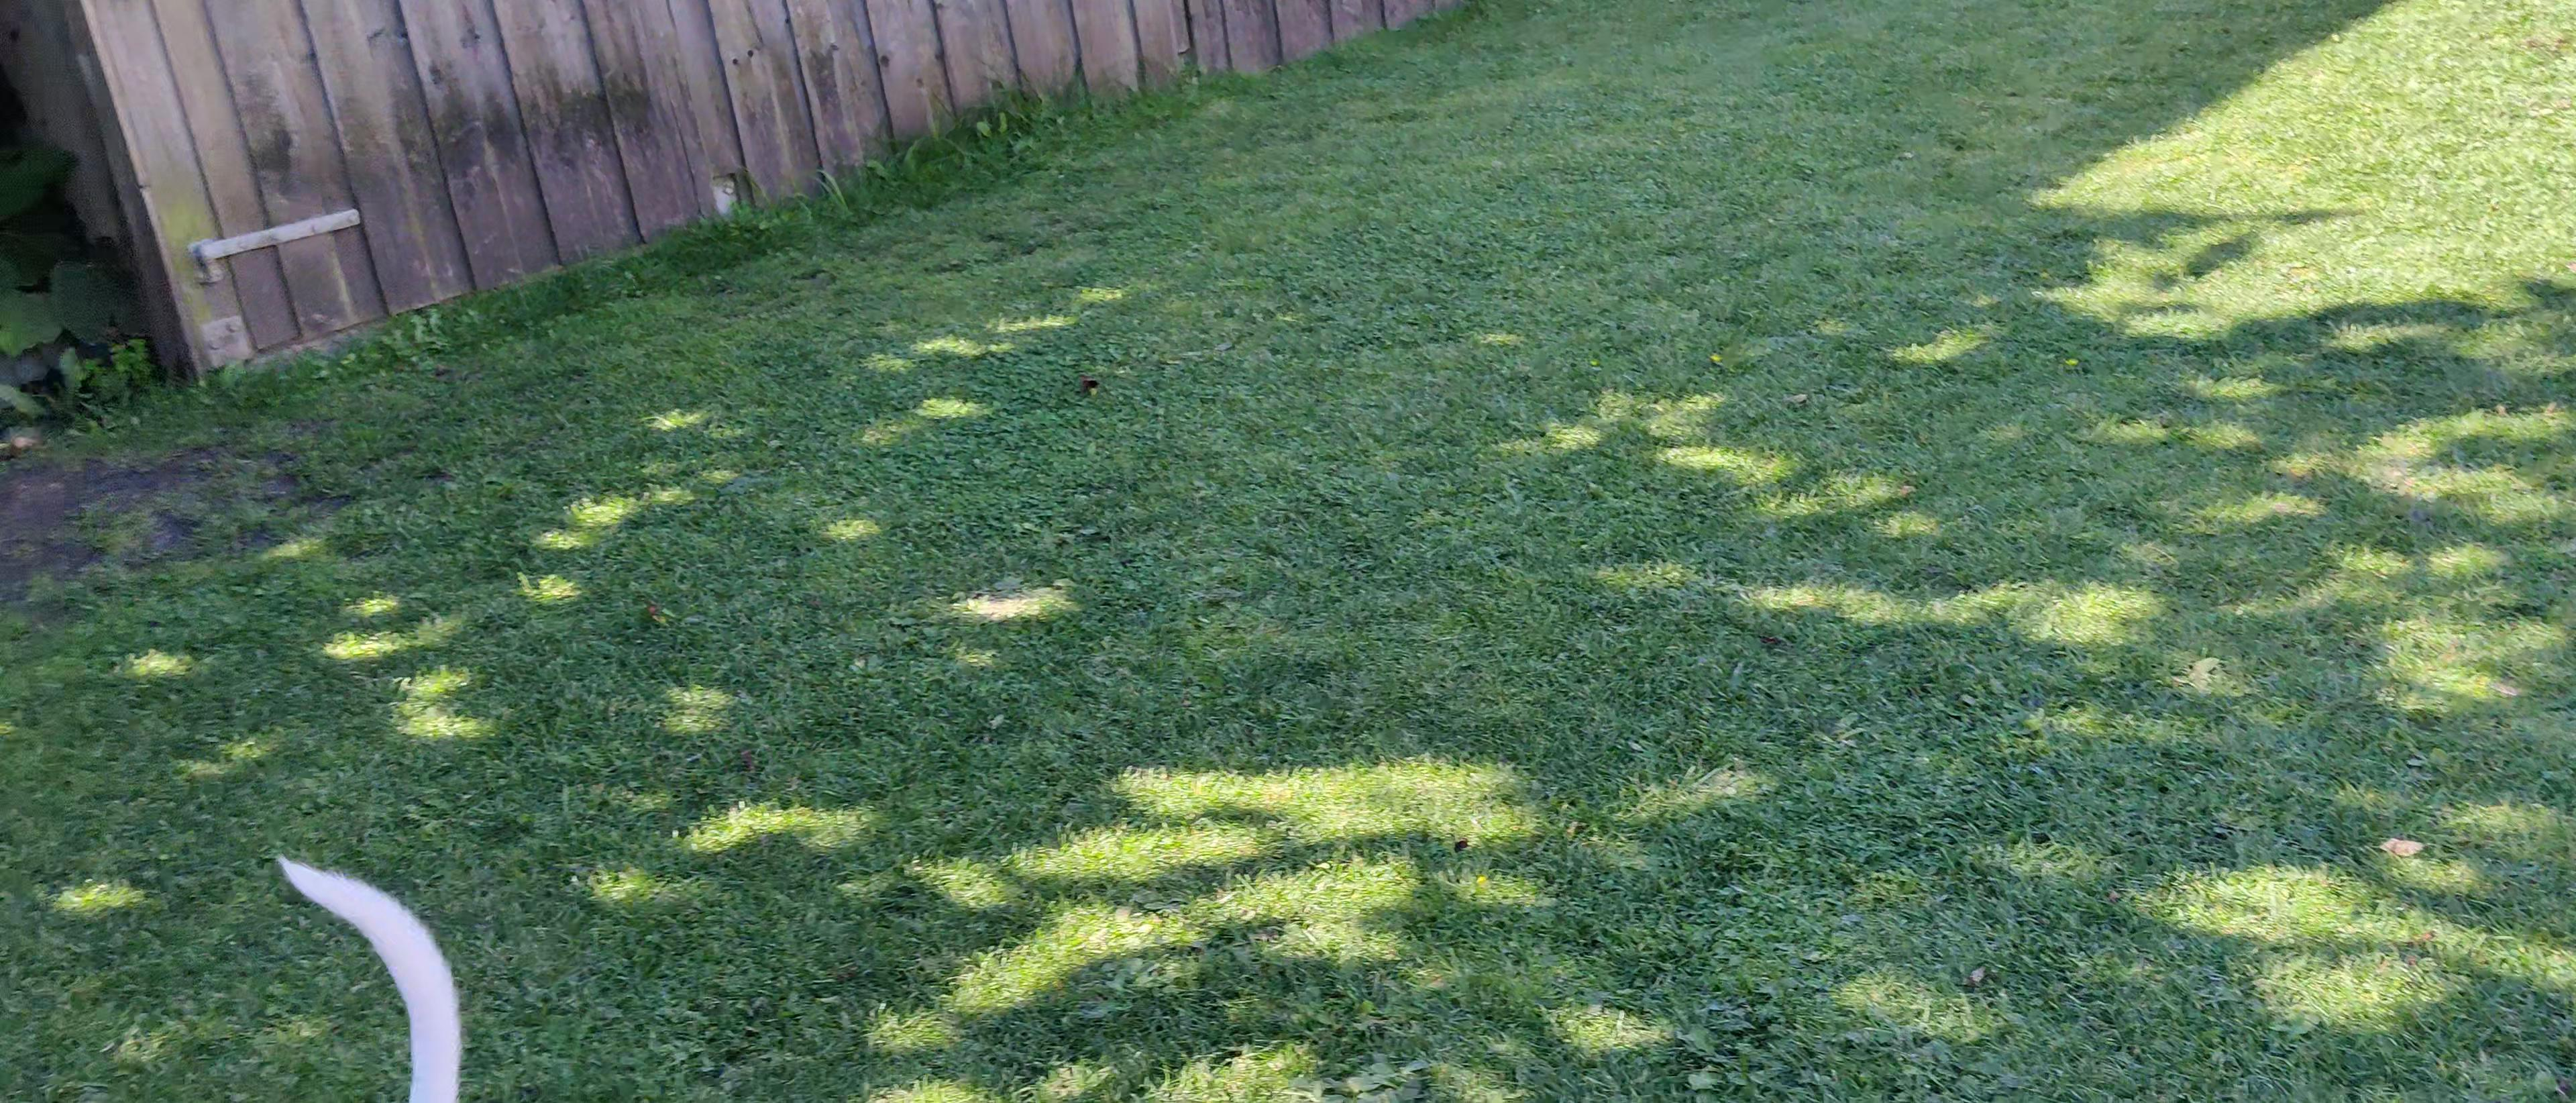Dog: (271, 837, 476, 1103)
